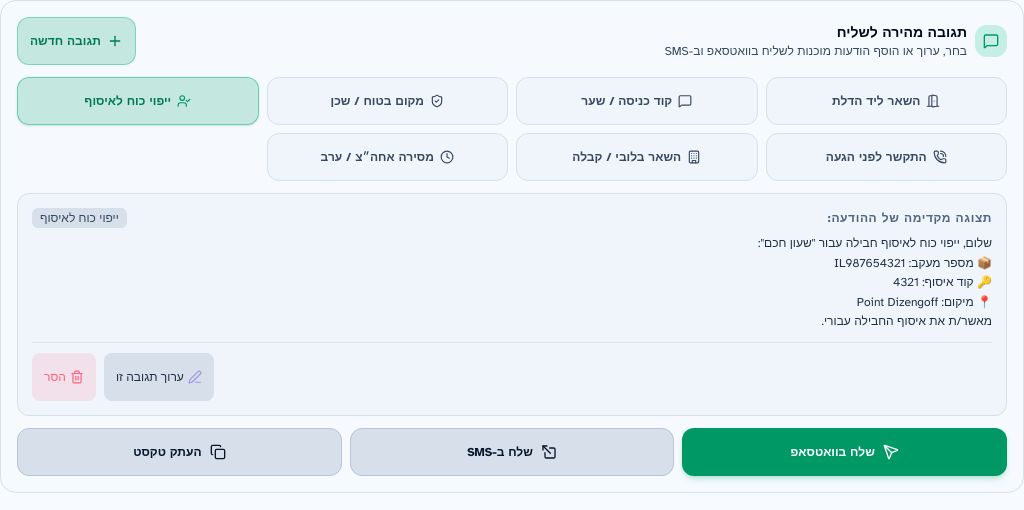
it: CourierActionHub › switches templates and updates preview text on click
The width and height of the screenshot is (1024, 510).
Click the tab "השאר ליד הדלת": [886, 101] box [766,77,1007,125]
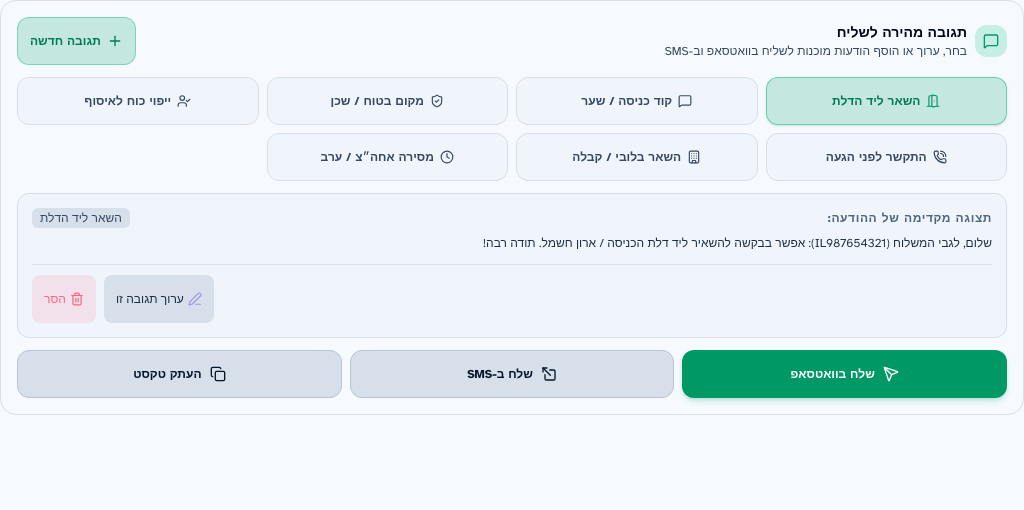
expect the text "אפשר בבקשה להשאיר ליד דלת הכניסה" is shown: met, box [483,236,992,250]
Click the tab "מקום בטוח / שכן": [387, 101] box [266,77,508,125]
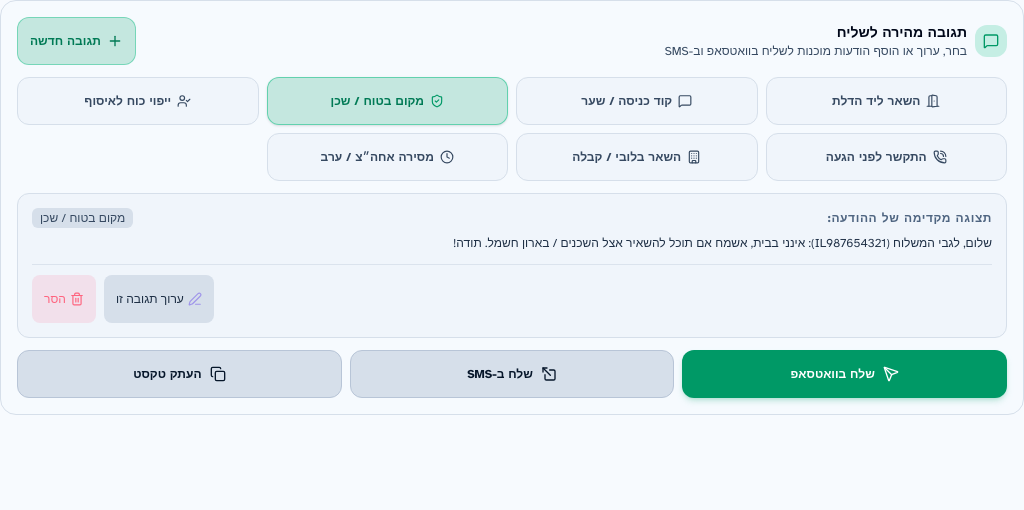
expect the text "אינני בבית, אשמח אם תוכל להשאיר" is shown: met, box [453,236,992,250]
